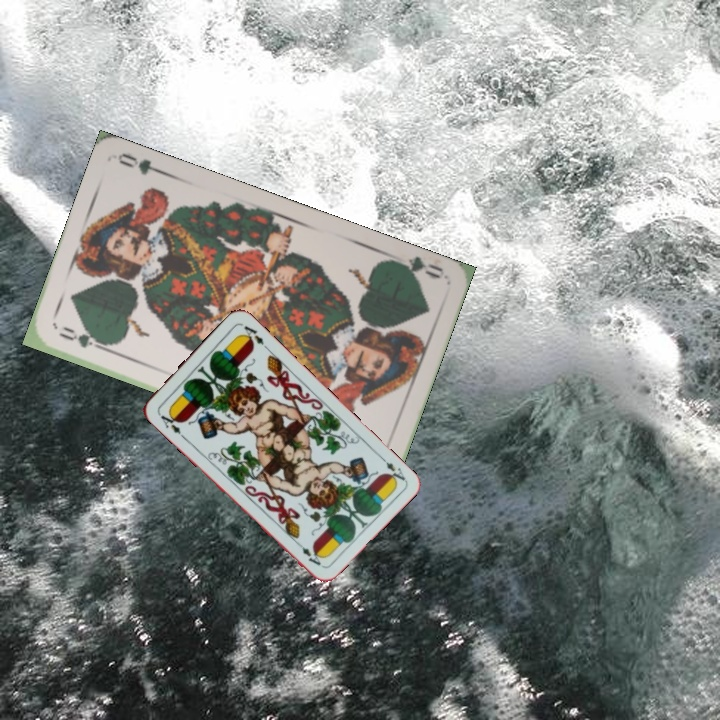EA: (375, 451, 408, 486), (154, 407, 184, 437)
GO: (55, 322, 111, 354), (388, 253, 446, 283)
